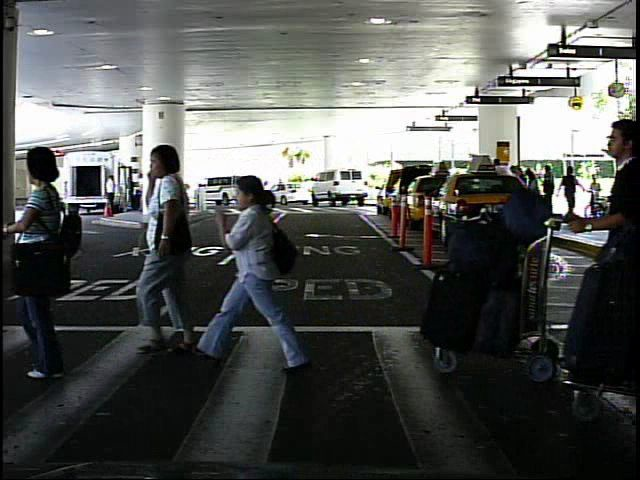person: (5, 134, 97, 382), (205, 159, 297, 382), (135, 138, 215, 360), (586, 172, 605, 218), (103, 172, 120, 201), (260, 178, 270, 204)
